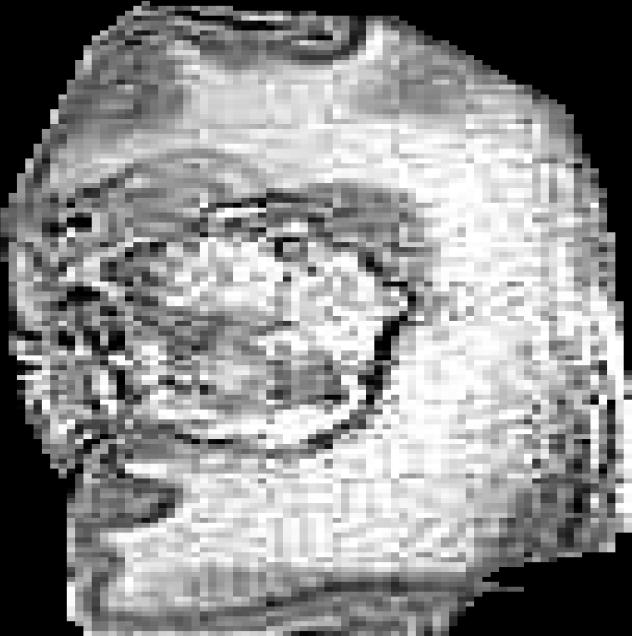tumor_moderate_chance: (0, 1, 632, 636)
